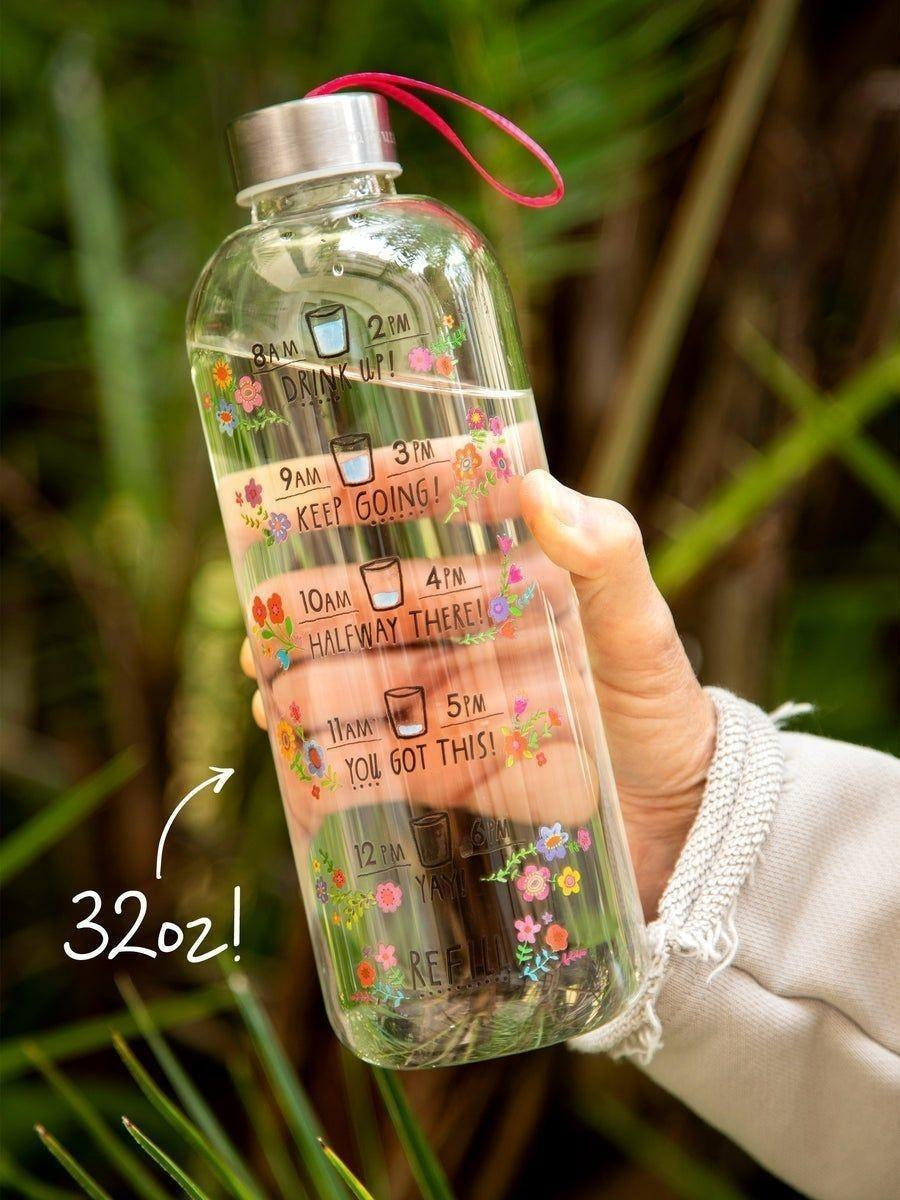gym bottle: (181, 75, 646, 1062)
